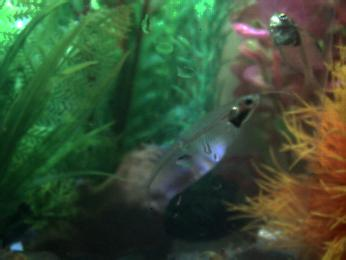X-ray fish: (267, 10, 326, 98)
glassfish: (116, 92, 264, 216)
siberian prawn: (161, 239, 254, 260)
